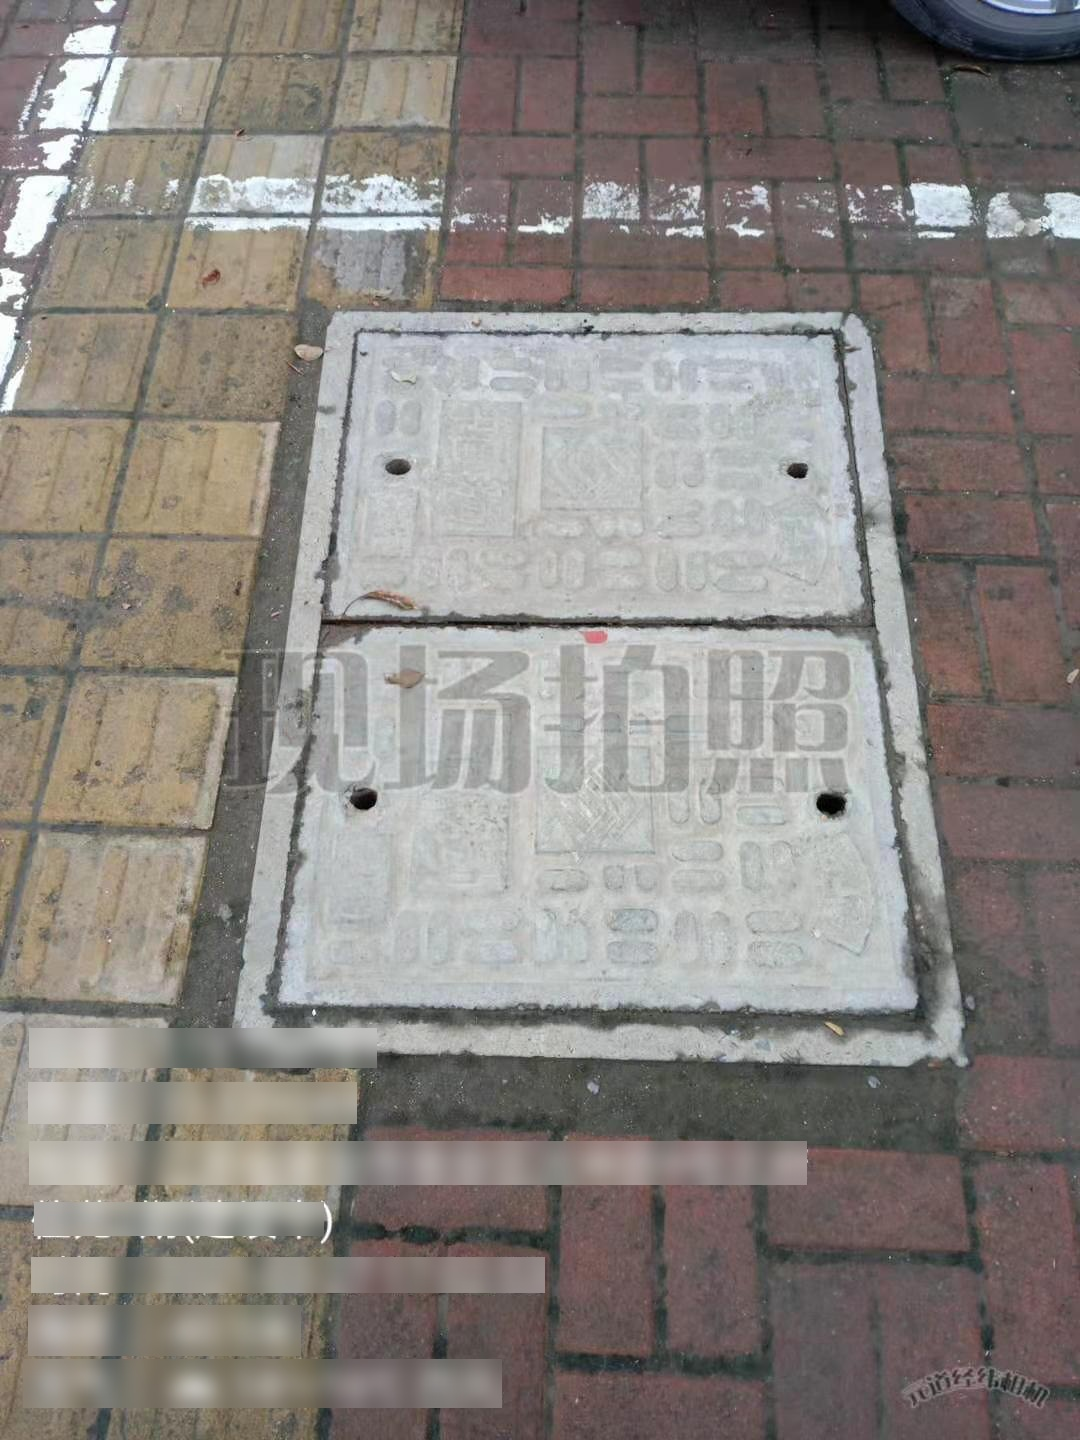good: (231, 300, 971, 1074)
